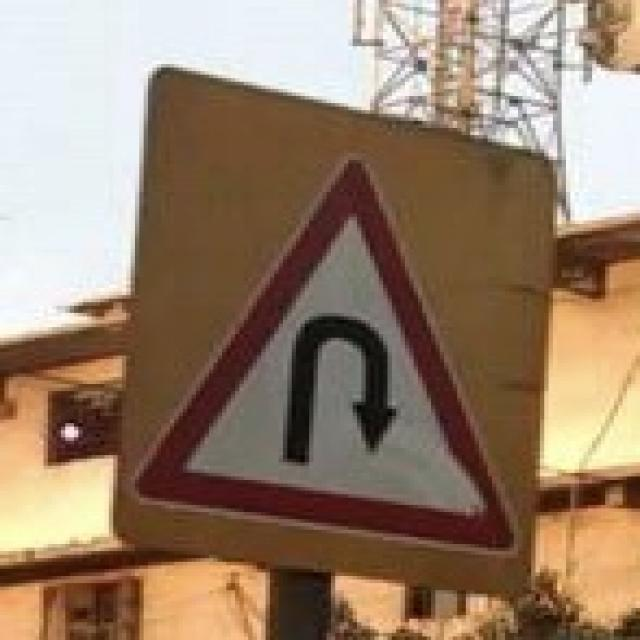u turn: (123, 149, 524, 557)
